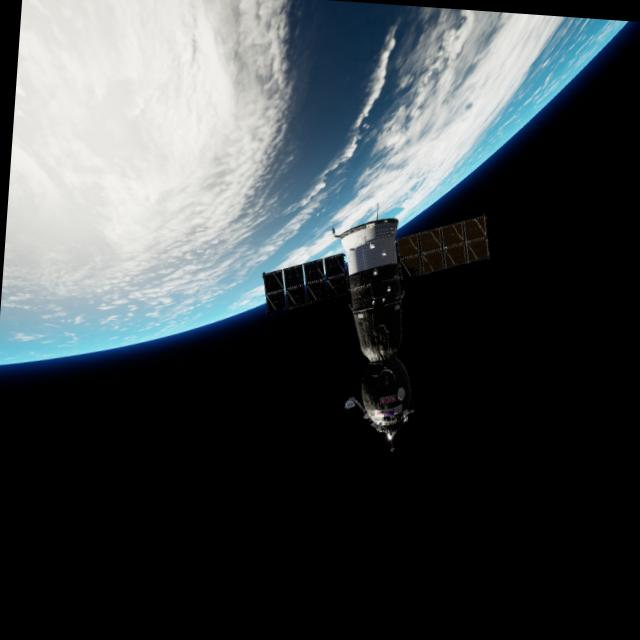Satellites revolving around earth: (249, 194, 495, 455)
